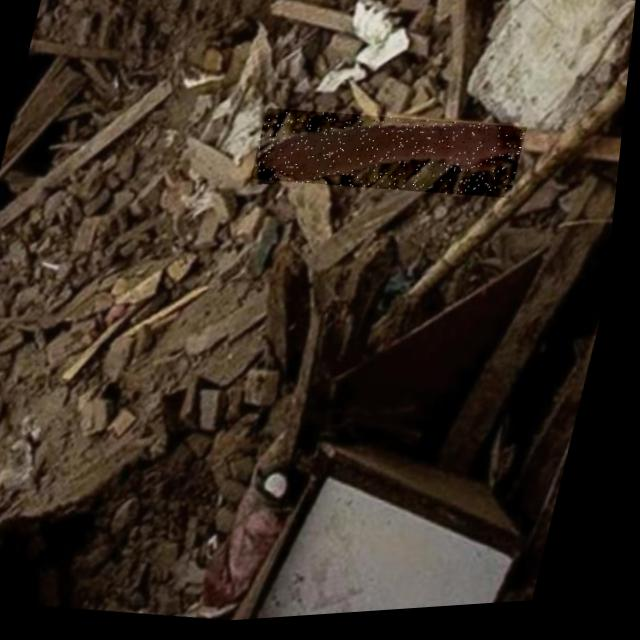Person in Rubble: (252, 97, 534, 219)
